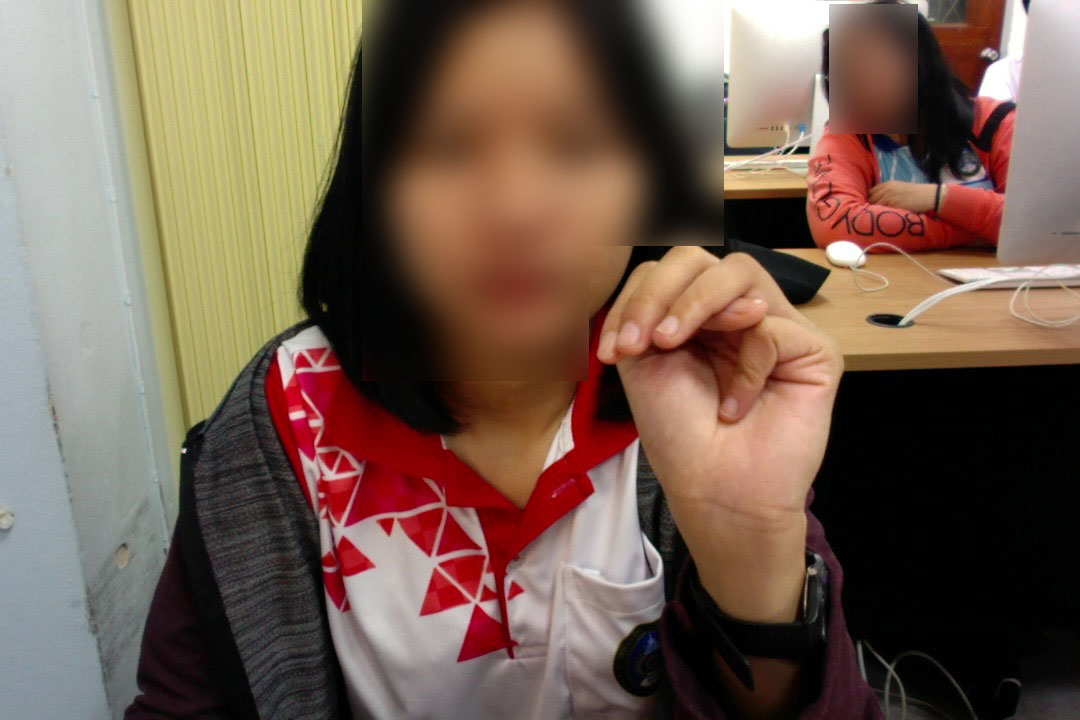mor: (580, 229, 852, 541)
